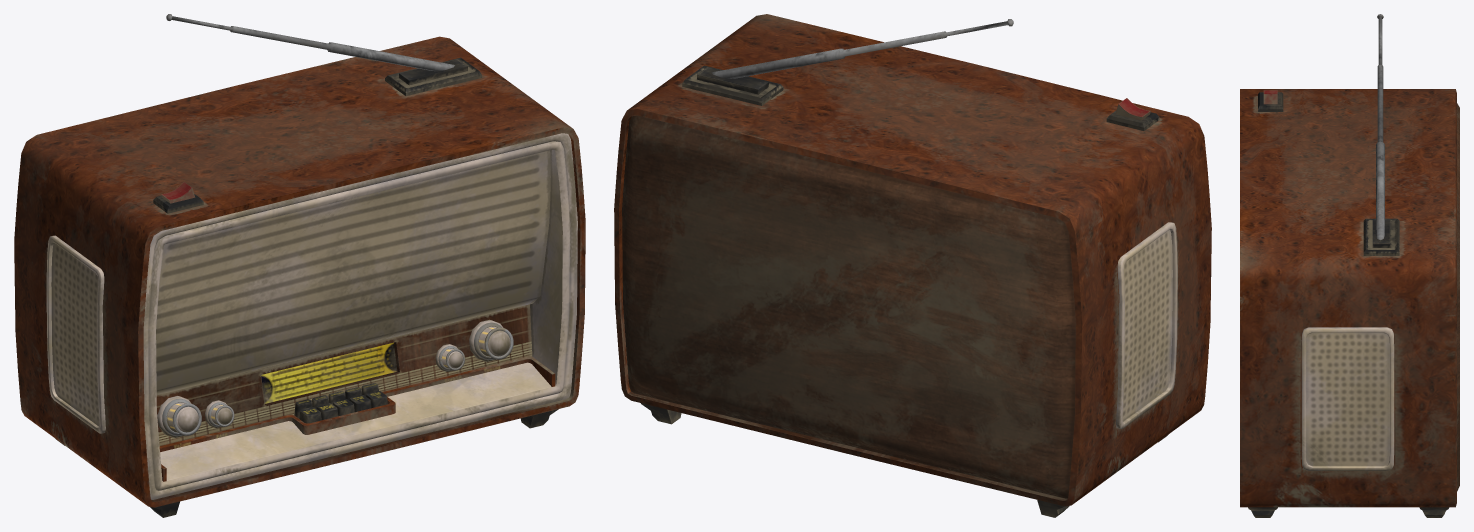
The model's file is radio3D.glb.
3 renders of one model, left to right at view 1: azimuth 30°, elevation 25°; view 2: azimuth 150°, elevation 25°; view 3: azimuth 270°, elevation 25°, orthographic. The views are drawn at different scales.
Visible parts, largest first — view 1: Circle.002; view 2: Circle.002; view 3: Circle.002.
Boxes of the visible parts, <box> form: Circle.002: <box>14,14,585,517</box>; Circle.002: <box>614,14,1211,517</box>; Circle.002: <box>1240,14,1459,517</box>.
Size of the model in its own units: 210 by 191 by 101.
1 material, 1 textured.
